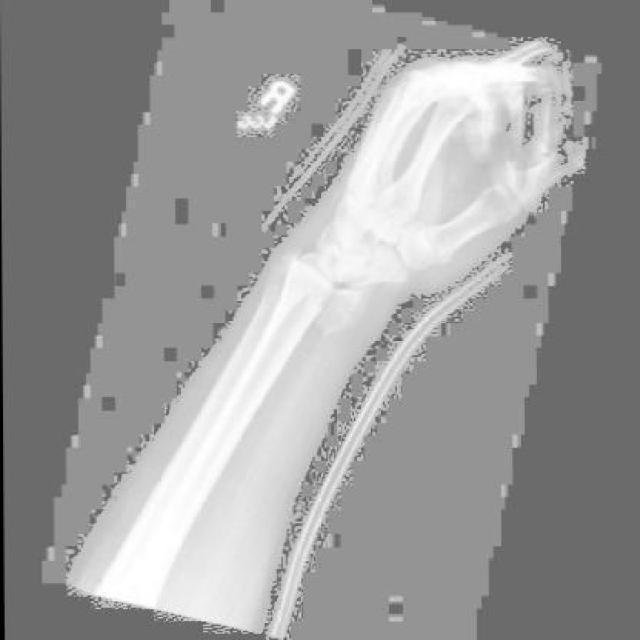Fracture: (254, 255, 376, 340)
